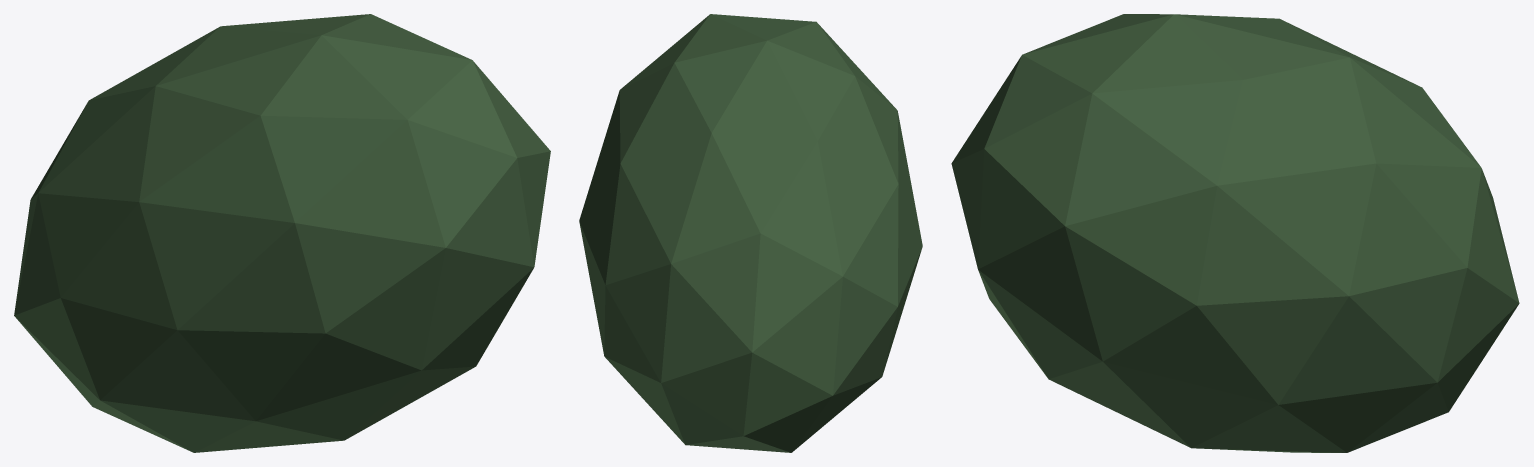
The model's file is Coconut_0.glb.
3 views of the same model, side by side, from view 1: azimuth 30°, elevation 25°; view 2: azimuth 150°, elevation 25°; view 3: azimuth 270°, elevation 25° (orthographic). The views are drawn at different scales.
Visible parts, largest first — view 1: Coconut; view 2: Coconut; view 3: Coconut.
Part boxes in pixels (x1=…): Coconut: x1=14, y1=14, x2=550, y2=452; Coconut: x1=579, y1=14, x2=922, y2=452; Coconut: x1=951, y1=14, x2=1519, y2=452.
Bounding box in the file's own units: 0.2167 × 0.2221 × 0.2553.
